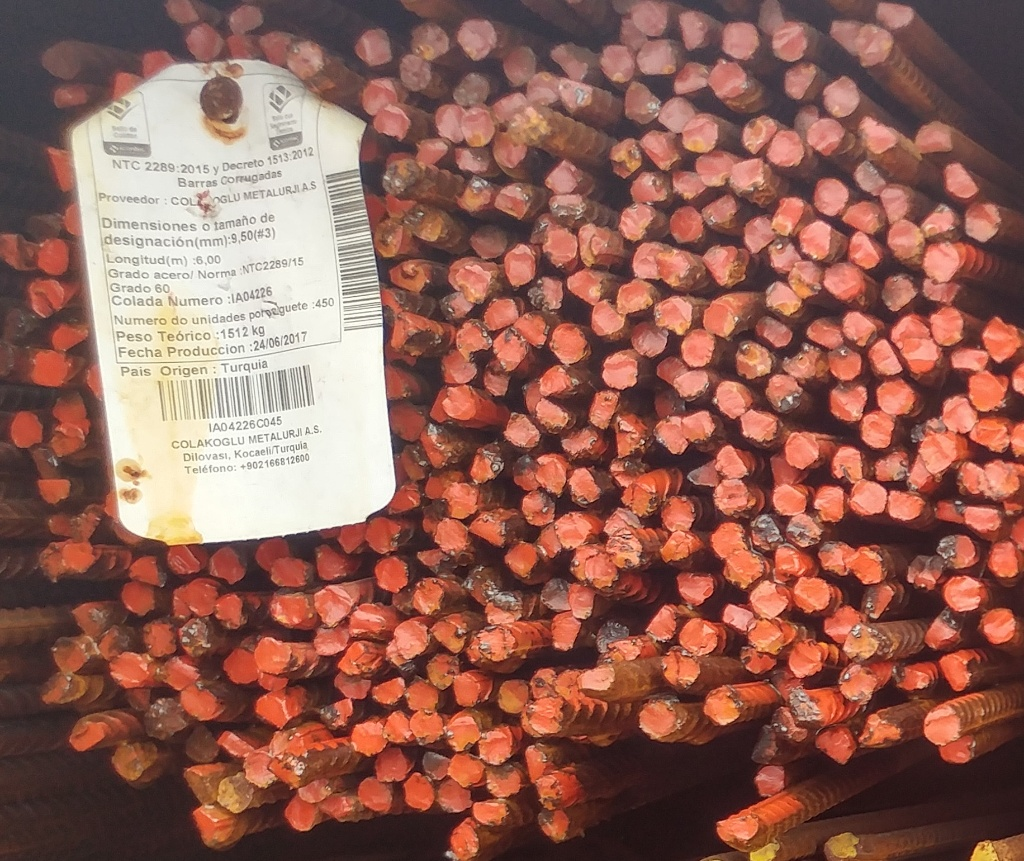dipstick: (983, 317, 1018, 364), (393, 312, 430, 356), (642, 131, 681, 170), (42, 43, 82, 81), (661, 649, 701, 687), (625, 81, 659, 124), (824, 75, 858, 118), (970, 374, 1008, 412), (552, 324, 587, 365), (717, 817, 758, 852), (313, 586, 350, 624), (552, 44, 589, 82), (705, 248, 744, 284), (660, 530, 702, 563), (859, 715, 901, 748), (680, 618, 717, 655), (825, 263, 861, 301), (924, 241, 959, 280), (504, 245, 536, 287), (195, 806, 232, 842), (406, 206, 443, 242), (479, 626, 517, 661), (459, 20, 494, 58), (965, 203, 1000, 241), (861, 115, 895, 154), (208, 547, 244, 583), (656, 297, 692, 333), (816, 728, 852, 764), (110, 653, 147, 688), (411, 23, 448, 58), (751, 582, 788, 617), (793, 577, 830, 612), (850, 480, 887, 515), (710, 60, 747, 95), (774, 23, 809, 60), (888, 222, 923, 259), (145, 705, 183, 739), (640, 701, 678, 735), (638, 41, 676, 75), (705, 687, 739, 725), (737, 342, 772, 378), (767, 376, 802, 412), (831, 383, 866, 419), (789, 692, 824, 728), (813, 179, 848, 215), (722, 23, 758, 58), (185, 767, 219, 804), (683, 114, 717, 151), (620, 204, 654, 241), (920, 435, 954, 472), (445, 714, 478, 752), (716, 381, 751, 416), (840, 666, 875, 701), (632, 1, 667, 36), (348, 603, 384, 637), (494, 185, 530, 219), (632, 320, 666, 356), (224, 648, 257, 685), (390, 405, 423, 442), (558, 511, 591, 548), (726, 552, 763, 585), (858, 27, 891, 64), (270, 592, 308, 624), (472, 443, 504, 481), (784, 62, 816, 100), (930, 307, 962, 345), (502, 46, 533, 85), (366, 518, 400, 553), (470, 225, 505, 259), (51, 638, 87, 671), (256, 537, 289, 573), (484, 765, 520, 798), (510, 108, 546, 141), (925, 708, 958, 744), (944, 577, 980, 610), (862, 413, 895, 449), (903, 340, 940, 372), (495, 331, 526, 369), (875, 381, 913, 412), (357, 30, 391, 64), (32, 353, 66, 387), (712, 523, 746, 557), (881, 277, 915, 311), (187, 24, 220, 59), (287, 42, 322, 75), (522, 491, 555, 526), (748, 620, 783, 653), (789, 642, 822, 677), (924, 611, 957, 646), (768, 132, 803, 165), (37, 239, 69, 275), (51, 392, 87, 424), (111, 743, 143, 779), (569, 468, 601, 504), (364, 78, 396, 114), (907, 555, 943, 587), (807, 120, 843, 152), (436, 104, 464, 145), (187, 726, 218, 763), (646, 605, 677, 642), (678, 573, 715, 604), (457, 264, 488, 301), (671, 206, 702, 243), (800, 220, 830, 258), (390, 263, 429, 292), (219, 776, 252, 810), (608, 532, 642, 565), (603, 356, 637, 389), (659, 98, 692, 132), (788, 262, 821, 296), (828, 348, 861, 382), (844, 312, 877, 346), (529, 276, 561, 311), (619, 281, 651, 316), (773, 708, 805, 743), (860, 584, 892, 619), (946, 161, 978, 196), (396, 621, 427, 657), (939, 536, 975, 567), (813, 485, 844, 521), (938, 653, 968, 690), (158, 659, 196, 688), (375, 222, 404, 260), (30, 280, 63, 313), (585, 555, 618, 588), (537, 398, 570, 431), (454, 73, 487, 106), (787, 514, 820, 547), (986, 462, 1019, 495), (255, 696, 287, 730), (682, 332, 714, 366), (826, 607, 858, 641), (853, 160, 885, 194), (449, 825, 480, 860), (377, 558, 408, 593), (400, 55, 431, 90), (545, 162, 580, 193), (984, 608, 1015, 643), (870, 340, 901, 375), (180, 621, 210, 657), (375, 107, 411, 137), (848, 232, 878, 268), (415, 580, 444, 617), (774, 199, 803, 236), (538, 812, 571, 844), (530, 699, 563, 731), (506, 415, 539, 447), (622, 484, 655, 516), (659, 253, 691, 286), (714, 480, 747, 512), (845, 628, 878, 660), (674, 61, 707, 93), (458, 322, 489, 356), (444, 486, 478, 517), (493, 133, 524, 167), (787, 433, 818, 467), (774, 546, 808, 577), (850, 550, 881, 584), (743, 116, 774, 150), (944, 398, 975, 432), (49, 150, 74, 192), (784, 348, 819, 378), (916, 122, 951, 152), (228, 5, 264, 34), (13, 412, 42, 448), (552, 613, 581, 649), (655, 418, 684, 454), (461, 177, 490, 213), (546, 230, 575, 266), (462, 109, 491, 145), (613, 140, 642, 176), (841, 205, 879, 232), (449, 753, 481, 785), (484, 299, 516, 331), (662, 497, 694, 529), (273, 557, 306, 588), (506, 543, 537, 576), (601, 46, 632, 79), (750, 516, 783, 547), (73, 605, 107, 635), (182, 690, 216, 720), (351, 723, 385, 753), (244, 753, 274, 787), (471, 516, 505, 546), (697, 154, 731, 184), (766, 284, 800, 314), (773, 485, 807, 515), (216, 594, 245, 629), (631, 173, 666, 202), (702, 195, 737, 224), (405, 774, 433, 810), (557, 80, 593, 108), (123, 584, 154, 616), (376, 748, 407, 780), (684, 411, 716, 442), (442, 353, 475, 383), (536, 458, 566, 491), (578, 664, 616, 690), (70, 722, 104, 751), (499, 679, 528, 713), (389, 481, 418, 515), (517, 314, 546, 348), (757, 317, 791, 346), (808, 319, 842, 348), (129, 557, 164, 585), (740, 647, 776, 674), (939, 736, 975, 763), (549, 195, 586, 221), (633, 242, 659, 279), (680, 12, 706, 49), (144, 624, 175, 655), (321, 699, 352, 730), (819, 543, 850, 574), (42, 674, 74, 704), (439, 781, 471, 811), (528, 73, 558, 105), (733, 160, 763, 192), (314, 627, 347, 656), (541, 578, 570, 611), (705, 303, 734, 336), (889, 491, 922, 520), (875, 452, 908, 481), (830, 21, 859, 54), (921, 207, 954, 236), (383, 160, 411, 194), (742, 411, 776, 439), (609, 458, 644, 485), (990, 542, 1017, 577), (580, 226, 603, 267), (753, 725, 777, 764), (2, 310, 33, 340), (53, 425, 83, 456), (337, 522, 367, 553), (359, 780, 389, 811), (568, 274, 599, 304), (718, 446, 748, 477), (479, 732, 508, 764), (437, 520, 466, 552), (592, 303, 624, 332), (755, 765, 784, 797), (484, 597, 521, 622), (591, 392, 616, 429), (261, 32, 289, 65), (256, 639, 284, 672), (440, 294, 473, 322), (770, 239, 798, 272), (617, 422, 644, 456), (891, 315, 929, 339), (562, 429, 597, 455), (223, 34, 259, 59), (434, 622, 463, 653), (315, 547, 343, 579), (413, 709, 440, 742), (676, 372, 709, 399), (382, 366, 408, 400), (52, 327, 87, 352), (537, 775, 562, 810), (469, 568, 494, 603), (41, 541, 64, 579), (187, 585, 216, 615), (169, 547, 199, 576), (407, 680, 437, 709), (833, 449, 861, 480), (218, 731, 254, 755), (745, 219, 772, 251), (287, 796, 313, 829), (893, 664, 926, 690), (963, 462, 989, 495), (569, 586, 594, 620), (965, 507, 999, 532), (771, 456, 800, 485), (65, 541, 93, 571), (275, 756, 303, 786), (493, 93, 524, 120), (881, 190, 908, 221), (339, 643, 365, 675), (386, 711, 411, 744), (335, 676, 372, 698), (374, 677, 403, 705), (596, 625, 625, 653), (672, 170, 700, 199), (100, 628, 126, 659), (653, 390, 684, 416), (513, 455, 536, 490), (525, 743, 545, 783), (687, 461, 719, 486), (455, 148, 488, 172), (32, 448, 59, 477), (430, 657, 457, 686), (539, 366, 566, 395), (415, 141, 449, 164), (657, 358, 687, 384), (760, 1, 785, 32), (27, 219, 62, 241), (604, 510, 639, 532), (448, 386, 471, 419), (878, 5, 911, 28), (416, 549, 450, 571), (322, 797, 353, 821), (424, 427, 443, 466), (37, 480, 69, 503), (484, 362, 507, 394), (144, 51, 173, 76), (472, 803, 503, 826), (555, 669, 583, 694), (924, 282, 959, 302), (74, 513, 98, 542), (382, 287, 406, 316), (1, 235, 22, 268), (934, 500, 964, 523), (166, 1, 197, 23), (724, 604, 751, 629), (299, 782, 332, 802), (795, 105, 819, 132), (772, 670, 802, 691), (53, 86, 86, 105), (404, 447, 423, 480), (540, 527, 559, 560), (531, 670, 554, 697), (621, 19, 644, 46), (951, 350, 985, 368), (456, 677, 477, 706), (424, 754, 449, 778), (610, 640, 640, 660), (530, 215, 551, 243), (424, 499, 443, 529), (66, 204, 80, 242), (425, 473, 449, 495), (569, 548, 585, 581), (429, 389, 445, 421), (172, 589, 189, 619), (50, 515, 73, 535), (524, 380, 538, 412), (259, 673, 287, 688), (387, 643, 406, 665), (128, 691, 148, 710)
